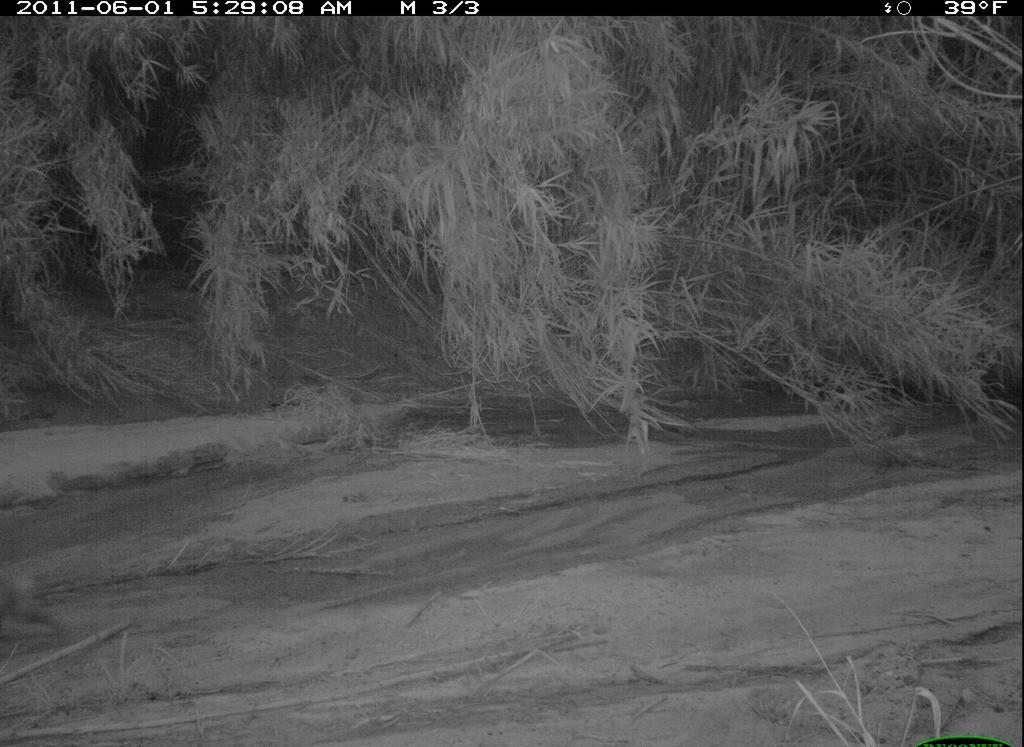opossum: (1, 550, 104, 649)
